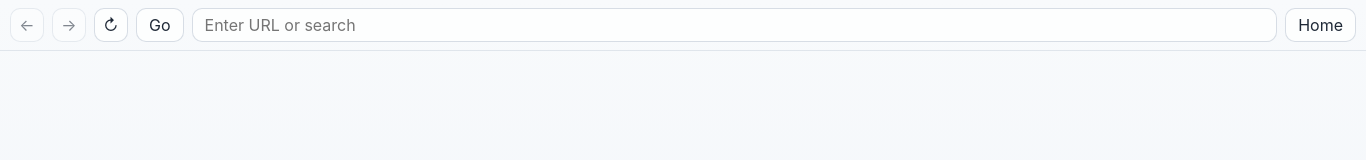
Test: BrowserPanel › preserves a draft address while browser state updates during editing
Step 1. Type "phos" into the field named "Browser address" → coordinates (734, 25), box x1=192 y1=8 x2=1277 y2=42
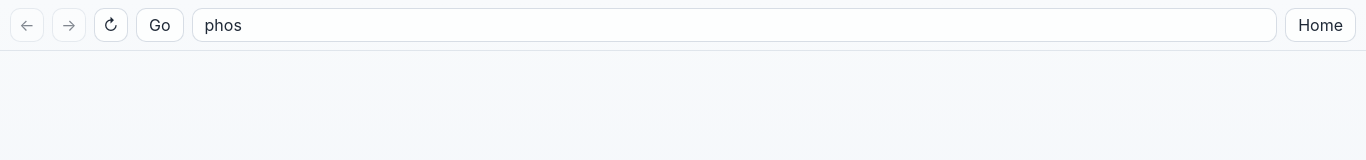
Step 2. Leave the field named "Browser address", box x1=192 y1=8 x2=1277 y2=42
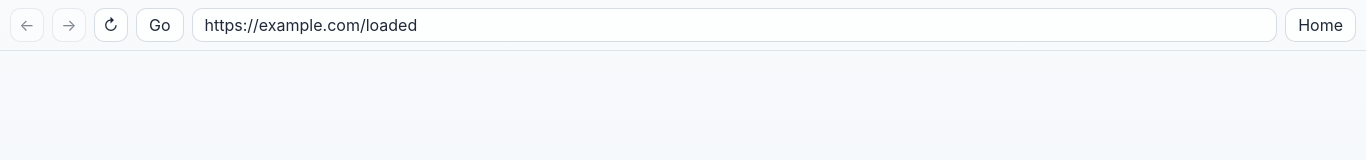
Result: the field named "Browser address" holds "https://example.com/loaded" at x1=192 y1=8 x2=1277 y2=42
